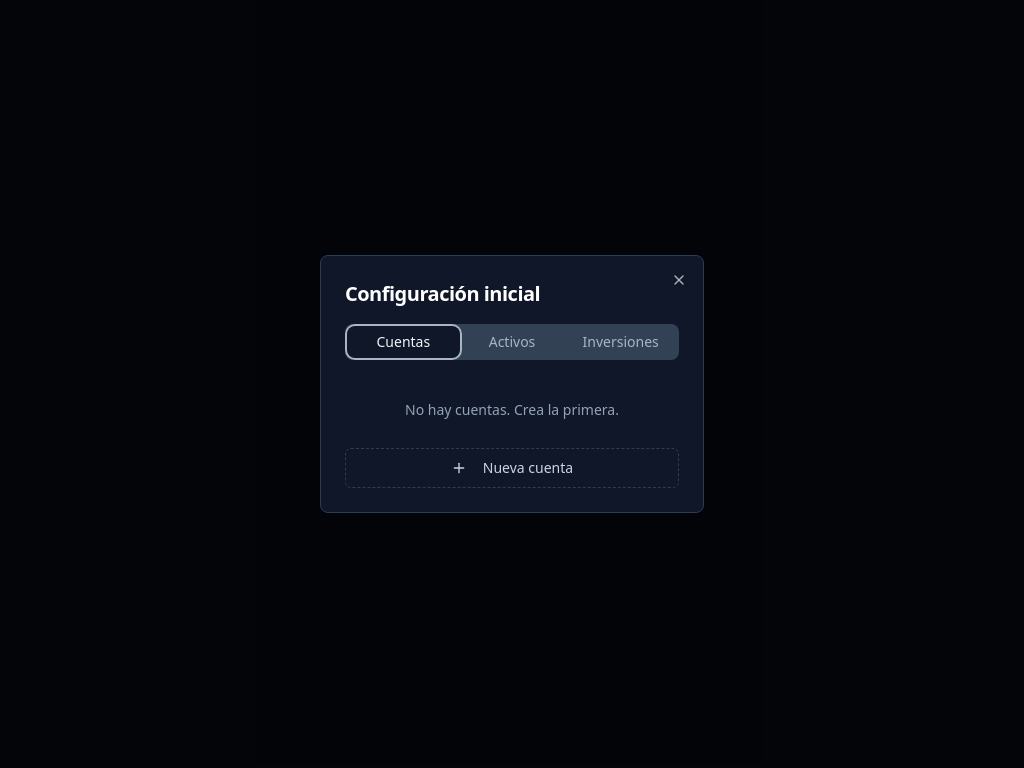
Test: AccountsModal – Assets tab › prefills asset edit form when edit button is clicked
Click the tab "Activos".
click(512, 342)  # box [458,328,566,356]
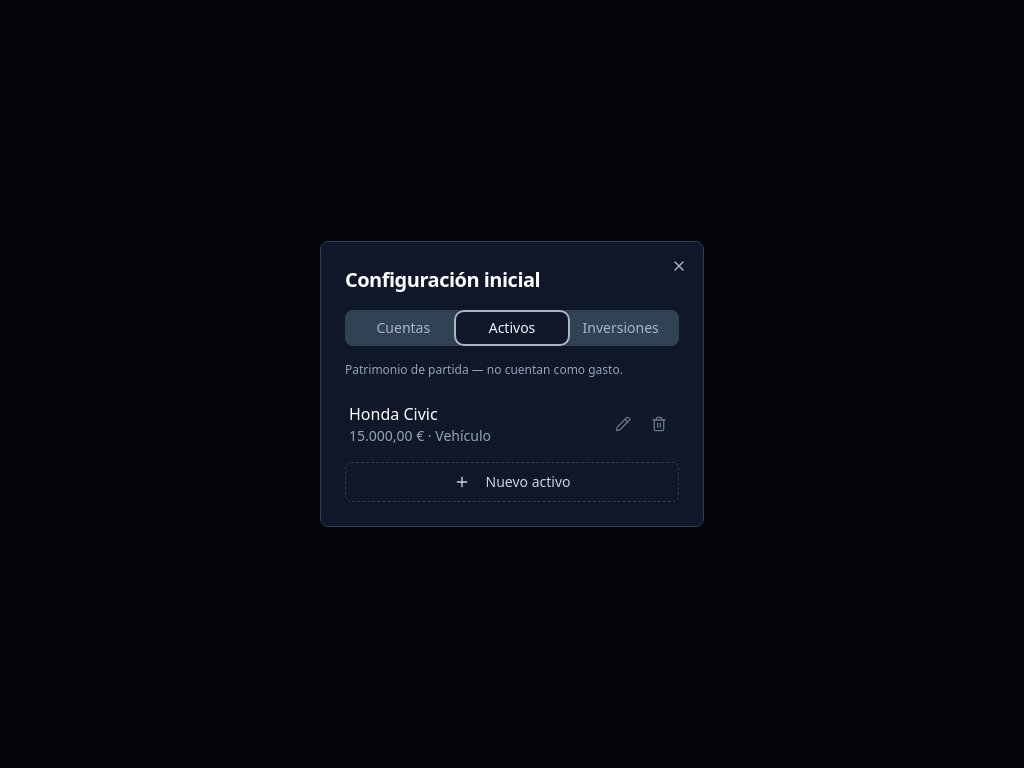
Click the button named "Editar Honda Civic".
click(623, 424)  # box [607,408,639,440]
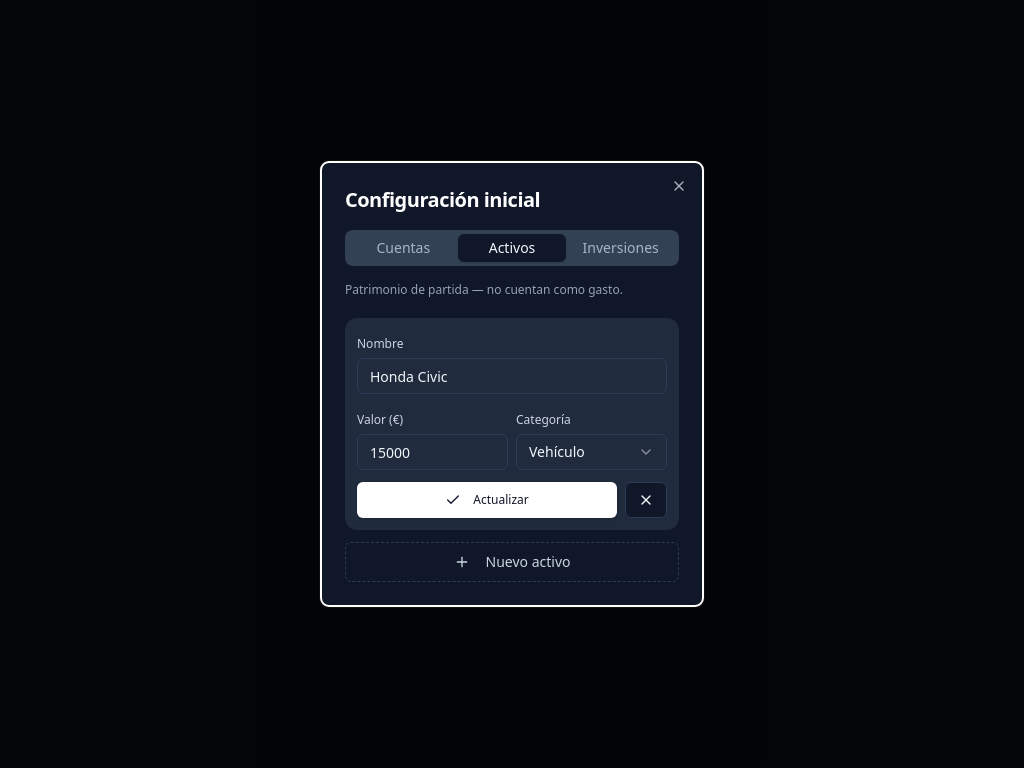
Check: the field labelled "Nombre" holds "Honda Civic", box [357,358,667,394]
Check: the number field labelled "Valor (€)" holds "15000", box [357,434,508,470]
Check: the button "Actualizar" is shown, box [357,482,617,518]
